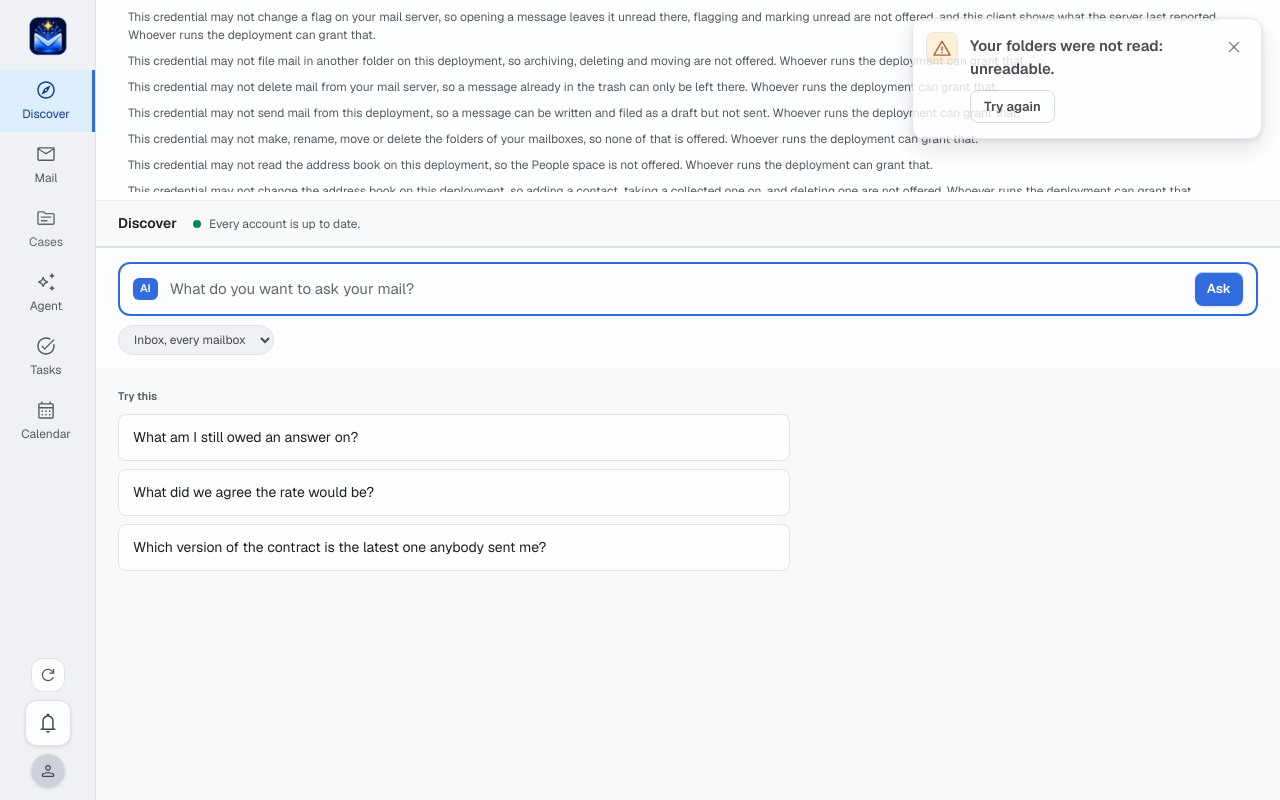
Test case: App › draws the field under an open message only where the deployment answers that it drafts: false
The width and height of the screenshot is (1280, 800).
Expected: the heading "Every account is up to date." is shown, [193,214,360,232]
Click the link "Mail": (46,164) [34,143,57,186]
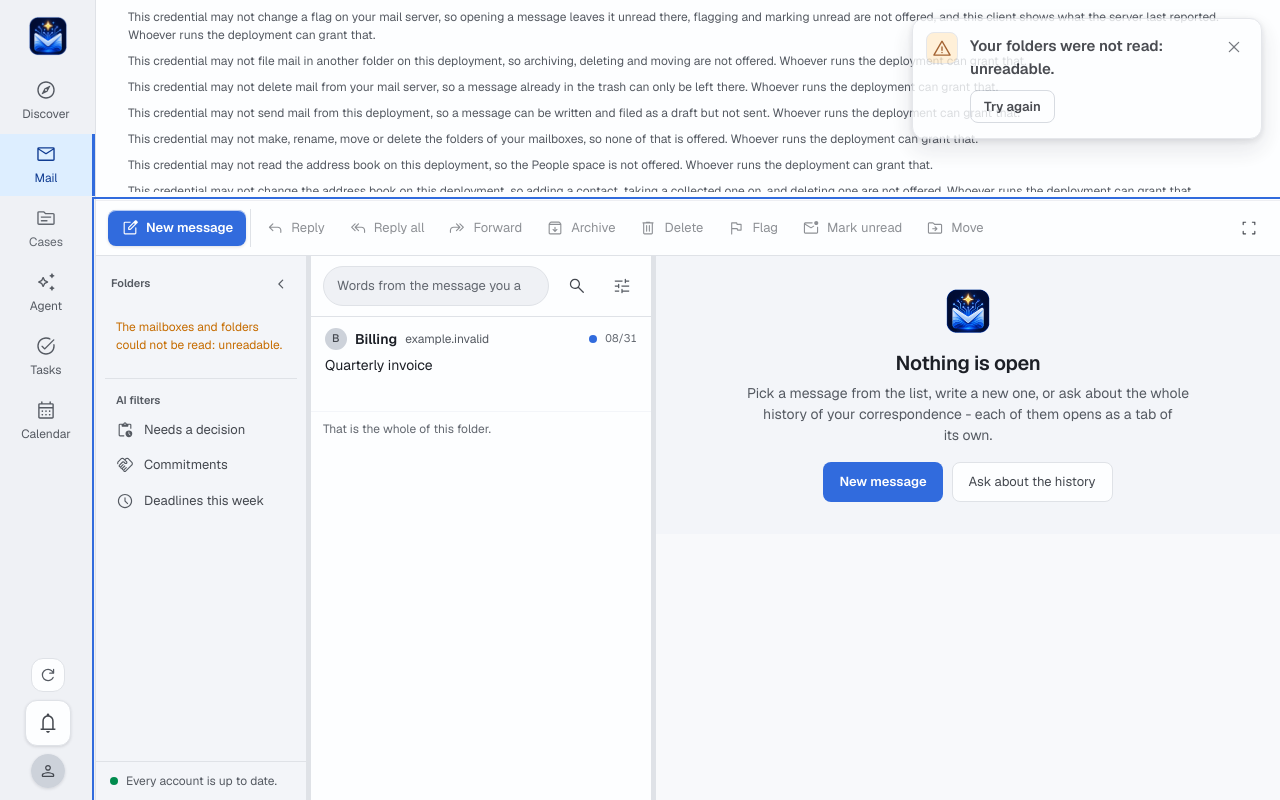
Now the element named "Mail" is shown
Press the mouse on the option "B Billing example.invalid 08/31 Quarterly invoice": (481,364) [311,316,651,412]
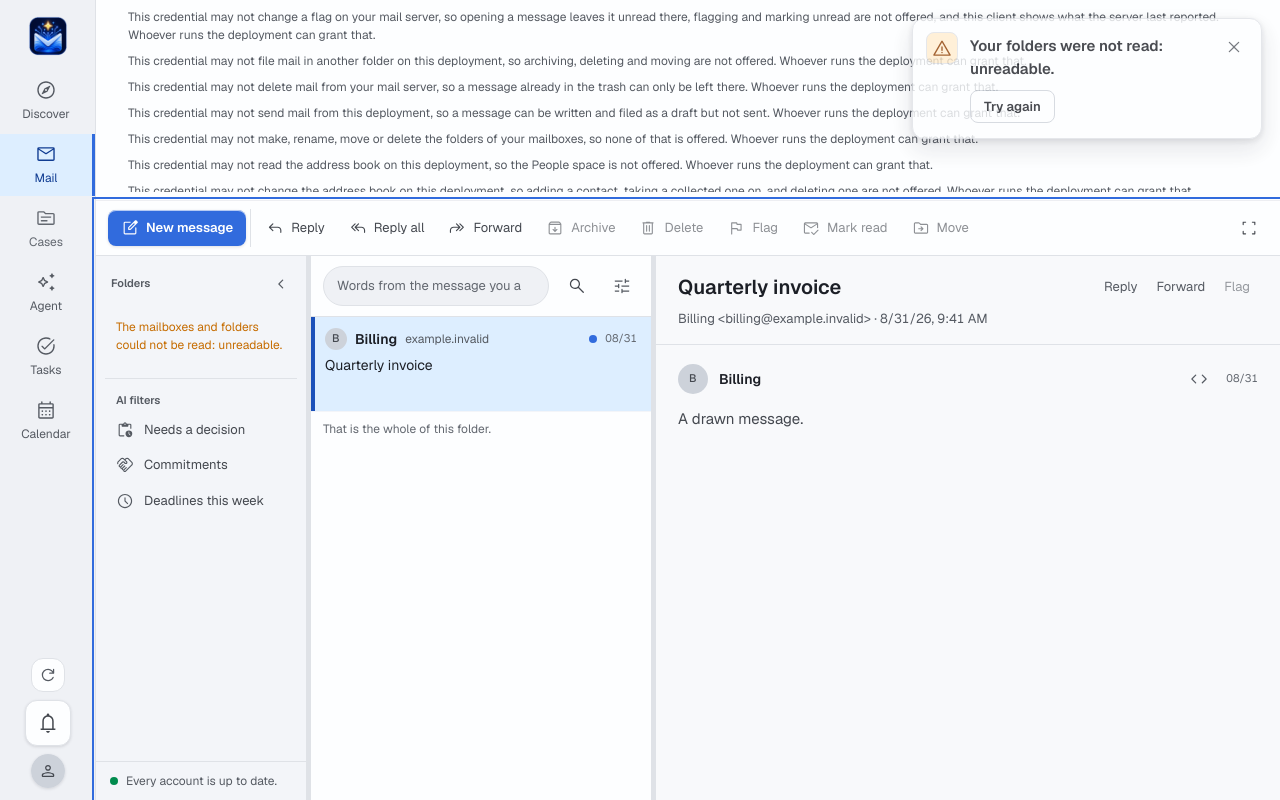
Expected: the search field labelled "Ask your mail" is not shown
Now the text "A drawn message." is shown, box [678,409,803,428]
